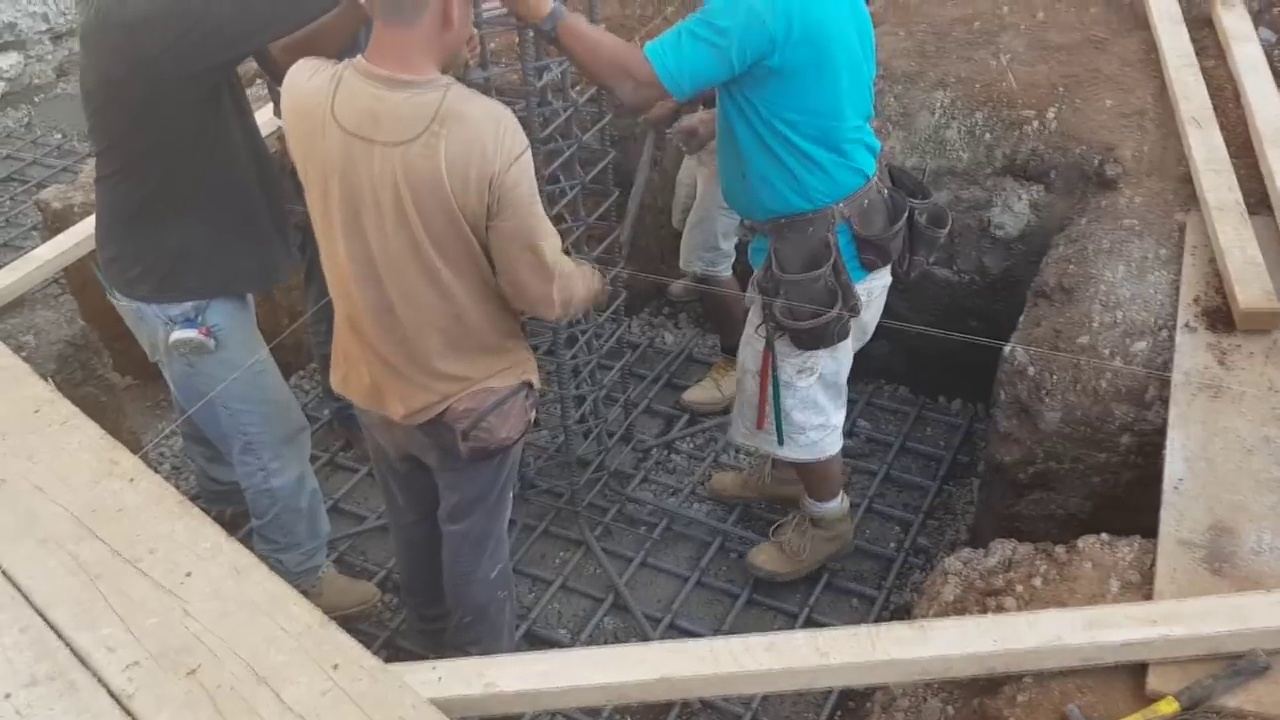person: (280, 0, 604, 650), (600, 0, 903, 578), (108, 0, 376, 647), (642, 90, 758, 416)
